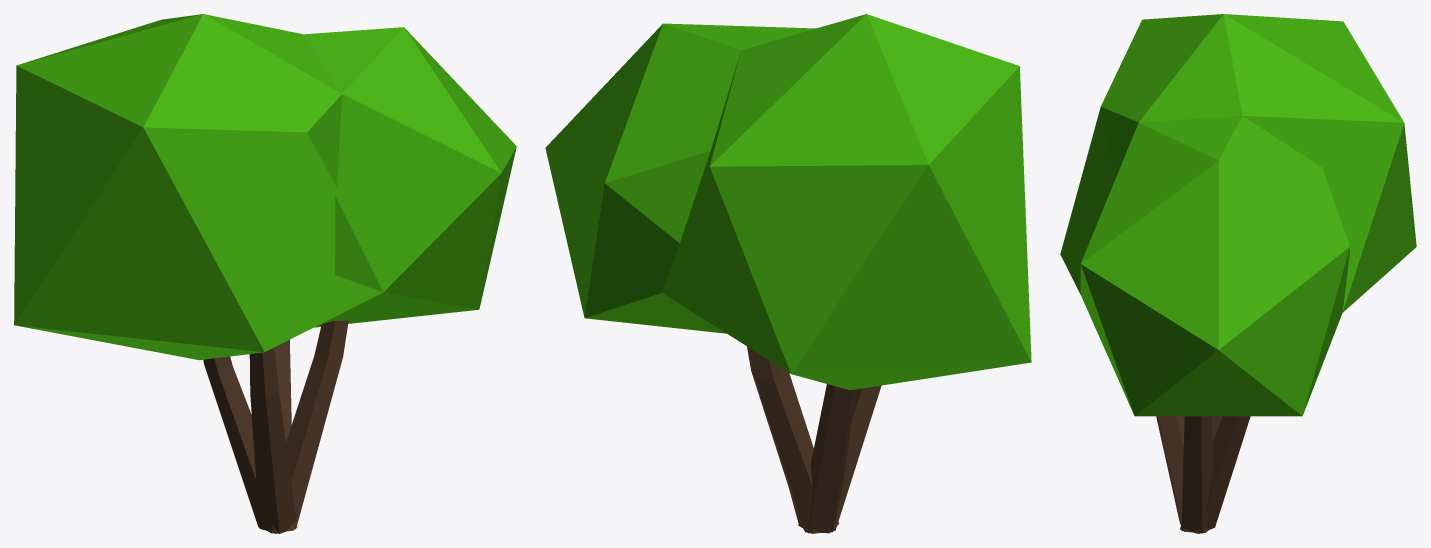
The model's file is bush.fbx.
3 renders of one model, left to right at view 1: azimuth 30°, elevation 25°; view 2: azimuth 150°, elevation 25°; view 3: azimuth 270°, elevation 25°, orthographic. The views are drawn at different scales.
Parts seen in each view (by area): view 1: Icosphere.001, Cylinder.003; view 2: Icosphere.001, Cylinder.003; view 3: Icosphere.001, Cylinder.003.
Part boxes in pixels (box(x1,y1,x2,y2)): Icosphere.001: box(14, 14, 516, 360); Cylinder.003: box(203, 320, 348, 533); Icosphere.001: box(545, 14, 1031, 390); Cylinder.003: box(747, 346, 881, 533); Icosphere.001: box(1060, 14, 1416, 416); Cylinder.003: box(1156, 416, 1250, 533).
Size of the model in its own units: 369 by 375 by 250.
